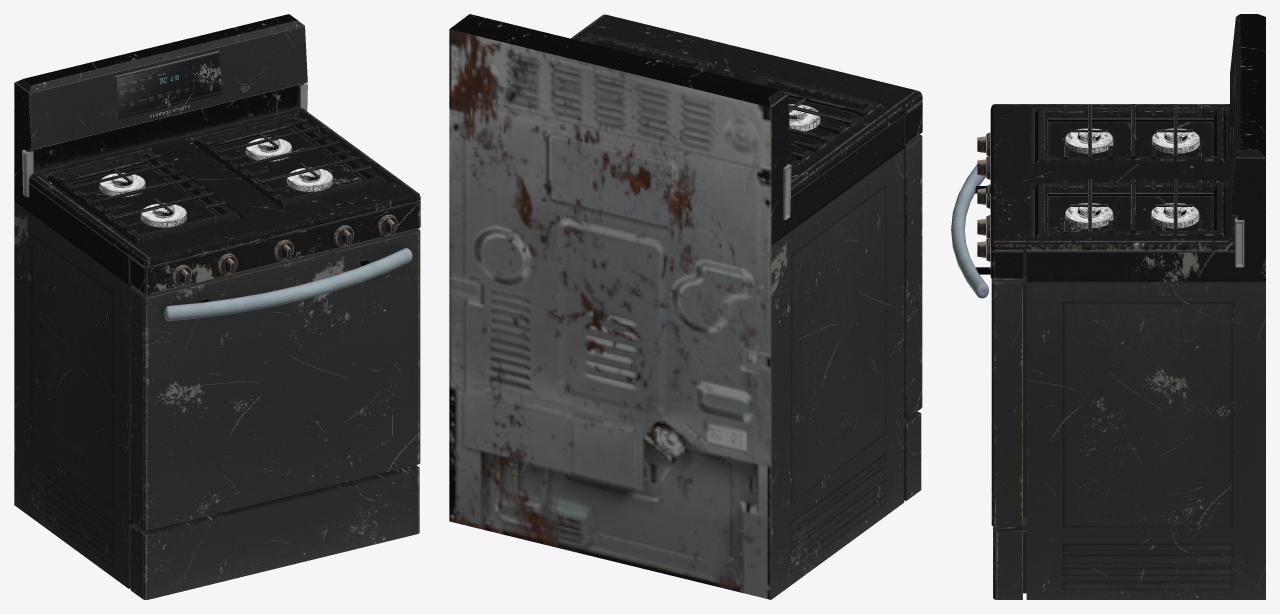
The picture shows the model from 3 angles, left to right: view 1: azimuth 30°, elevation 25°; view 2: azimuth 150°, elevation 25°; view 3: azimuth 270°, elevation 25°; orthographic projection. The views are drawn at different scales.
Visible parts, largest first — view 1: Stove; view 2: Stove; view 3: Stove.
Part boxes in pixels (bbox=[...]): Stove: bbox=[14, 14, 420, 599]; Stove: bbox=[449, 14, 922, 599]; Stove: bbox=[951, 14, 1265, 599].
Bounding box in the file's own units: 373 × 540 × 344.
1 material, 1 textured.
